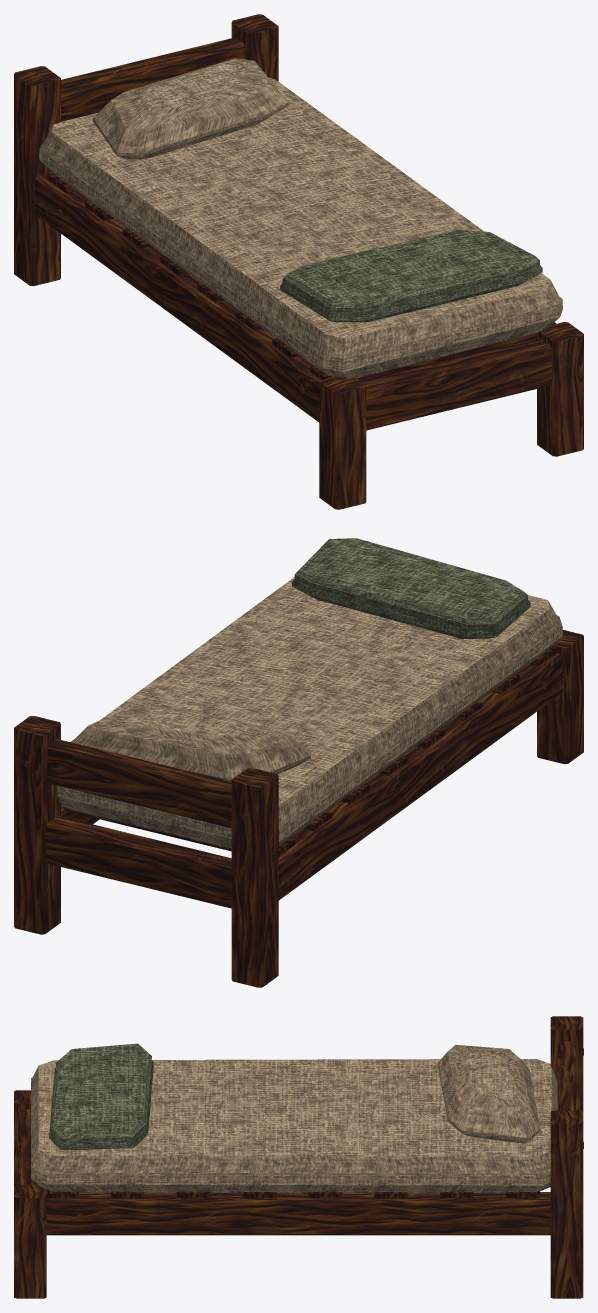
File: Cama-Solteiro-Manta-Dobrada.glb
3 renders of one model, top to bottom at view 1: azimuth 30°, elevation 25°; view 2: azimuth 150°, elevation 25°; view 3: azimuth 270°, elevation 25°, orthographic. The views are drawn at different scales.
Visible parts, largest first — view 1: Colchao, Pés e montantes, Manta dobrada, Travessas laterais, Travesseiro 1, Travessas das pontas, Cabeceira, Estrado; view 2: Colchao, Pés e montantes, Manta dobrada, Travessas laterais, Travesseiro 1, Travessas das pontas, Cabeceira, Estrado; view 3: Colchao, Travessas laterais, Pés e montantes, Manta dobrada, Travesseiro 1, Estrado, Cabeceira, Travessas das pontas.
Boxes of the visible parts, <box> form: Colchao: <box>39,77,562,378</box>; Pés e montantes: <box>14,14,583,509</box>; Manta dobrada: <box>280,230,542,322</box>; Travessas laterais: <box>35,172,320,422</box>; Travesseiro 1: <box>93,58,288,159</box>; Travessas das pontas: <box>361,338,551,430</box>; Cabeceira: <box>61,37,244,121</box>; Estrado: <box>47,173,556,381</box>; Colchao: <box>57,577,562,848</box>; Pés e montantes: <box>14,630,583,987</box>; Manta dobrada: <box>292,538,530,638</box>; Travessas laterais: <box>61,653,562,900</box>; Travesseiro 1: <box>71,704,310,781</box>; Travessas das pontas: <box>46,816,231,908</box>; Cabeceira: <box>47,739,231,828</box>; Estrado: <box>63,646,556,856</box>; Colchao: <box>31,1059,557,1193</box>; Travessas laterais: <box>46,1192,550,1235</box>; Pés e montantes: <box>14,1016,583,1298</box>; Manta dobrada: <box>49,1043,153,1150</box>; Travesseiro 1: <box>437,1044,540,1143</box>; Estrado: <box>46,1189,539,1198</box>; Cabeceira: <box>557,1041,575,1110</box>; Travessas das pontas: <box>18,1109,577,1184</box>.
Bounding box in the file's own units: 0.885 × 0.68 × 2.
3 materials, 3 textured.
